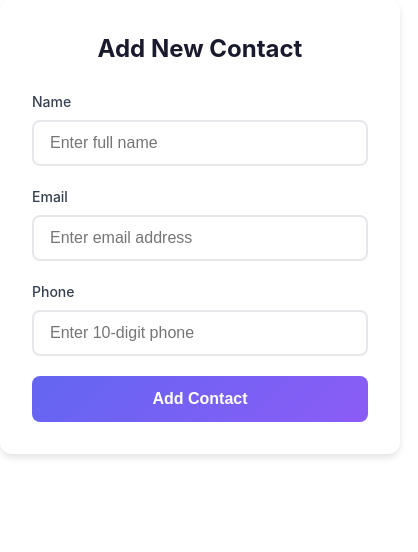
Test: ContactForm › shows validation errors when submitting empty form
The width and height of the screenshot is (418, 552).
Step 1. Click the button "Add Contact" → {"x": 200, "y": 399}, box x1=32 y1=376 x2=368 y2=422
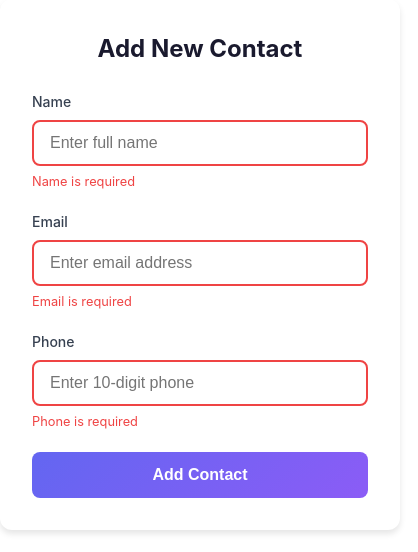
Expected: the text "Name is required" is shown, x1=32 y1=174 x2=135 y2=189
Expected: the text "Email is required" is shown, x1=32 y1=294 x2=132 y2=309
Expected: the text "Phone is required" is shown, x1=32 y1=414 x2=138 y2=429
